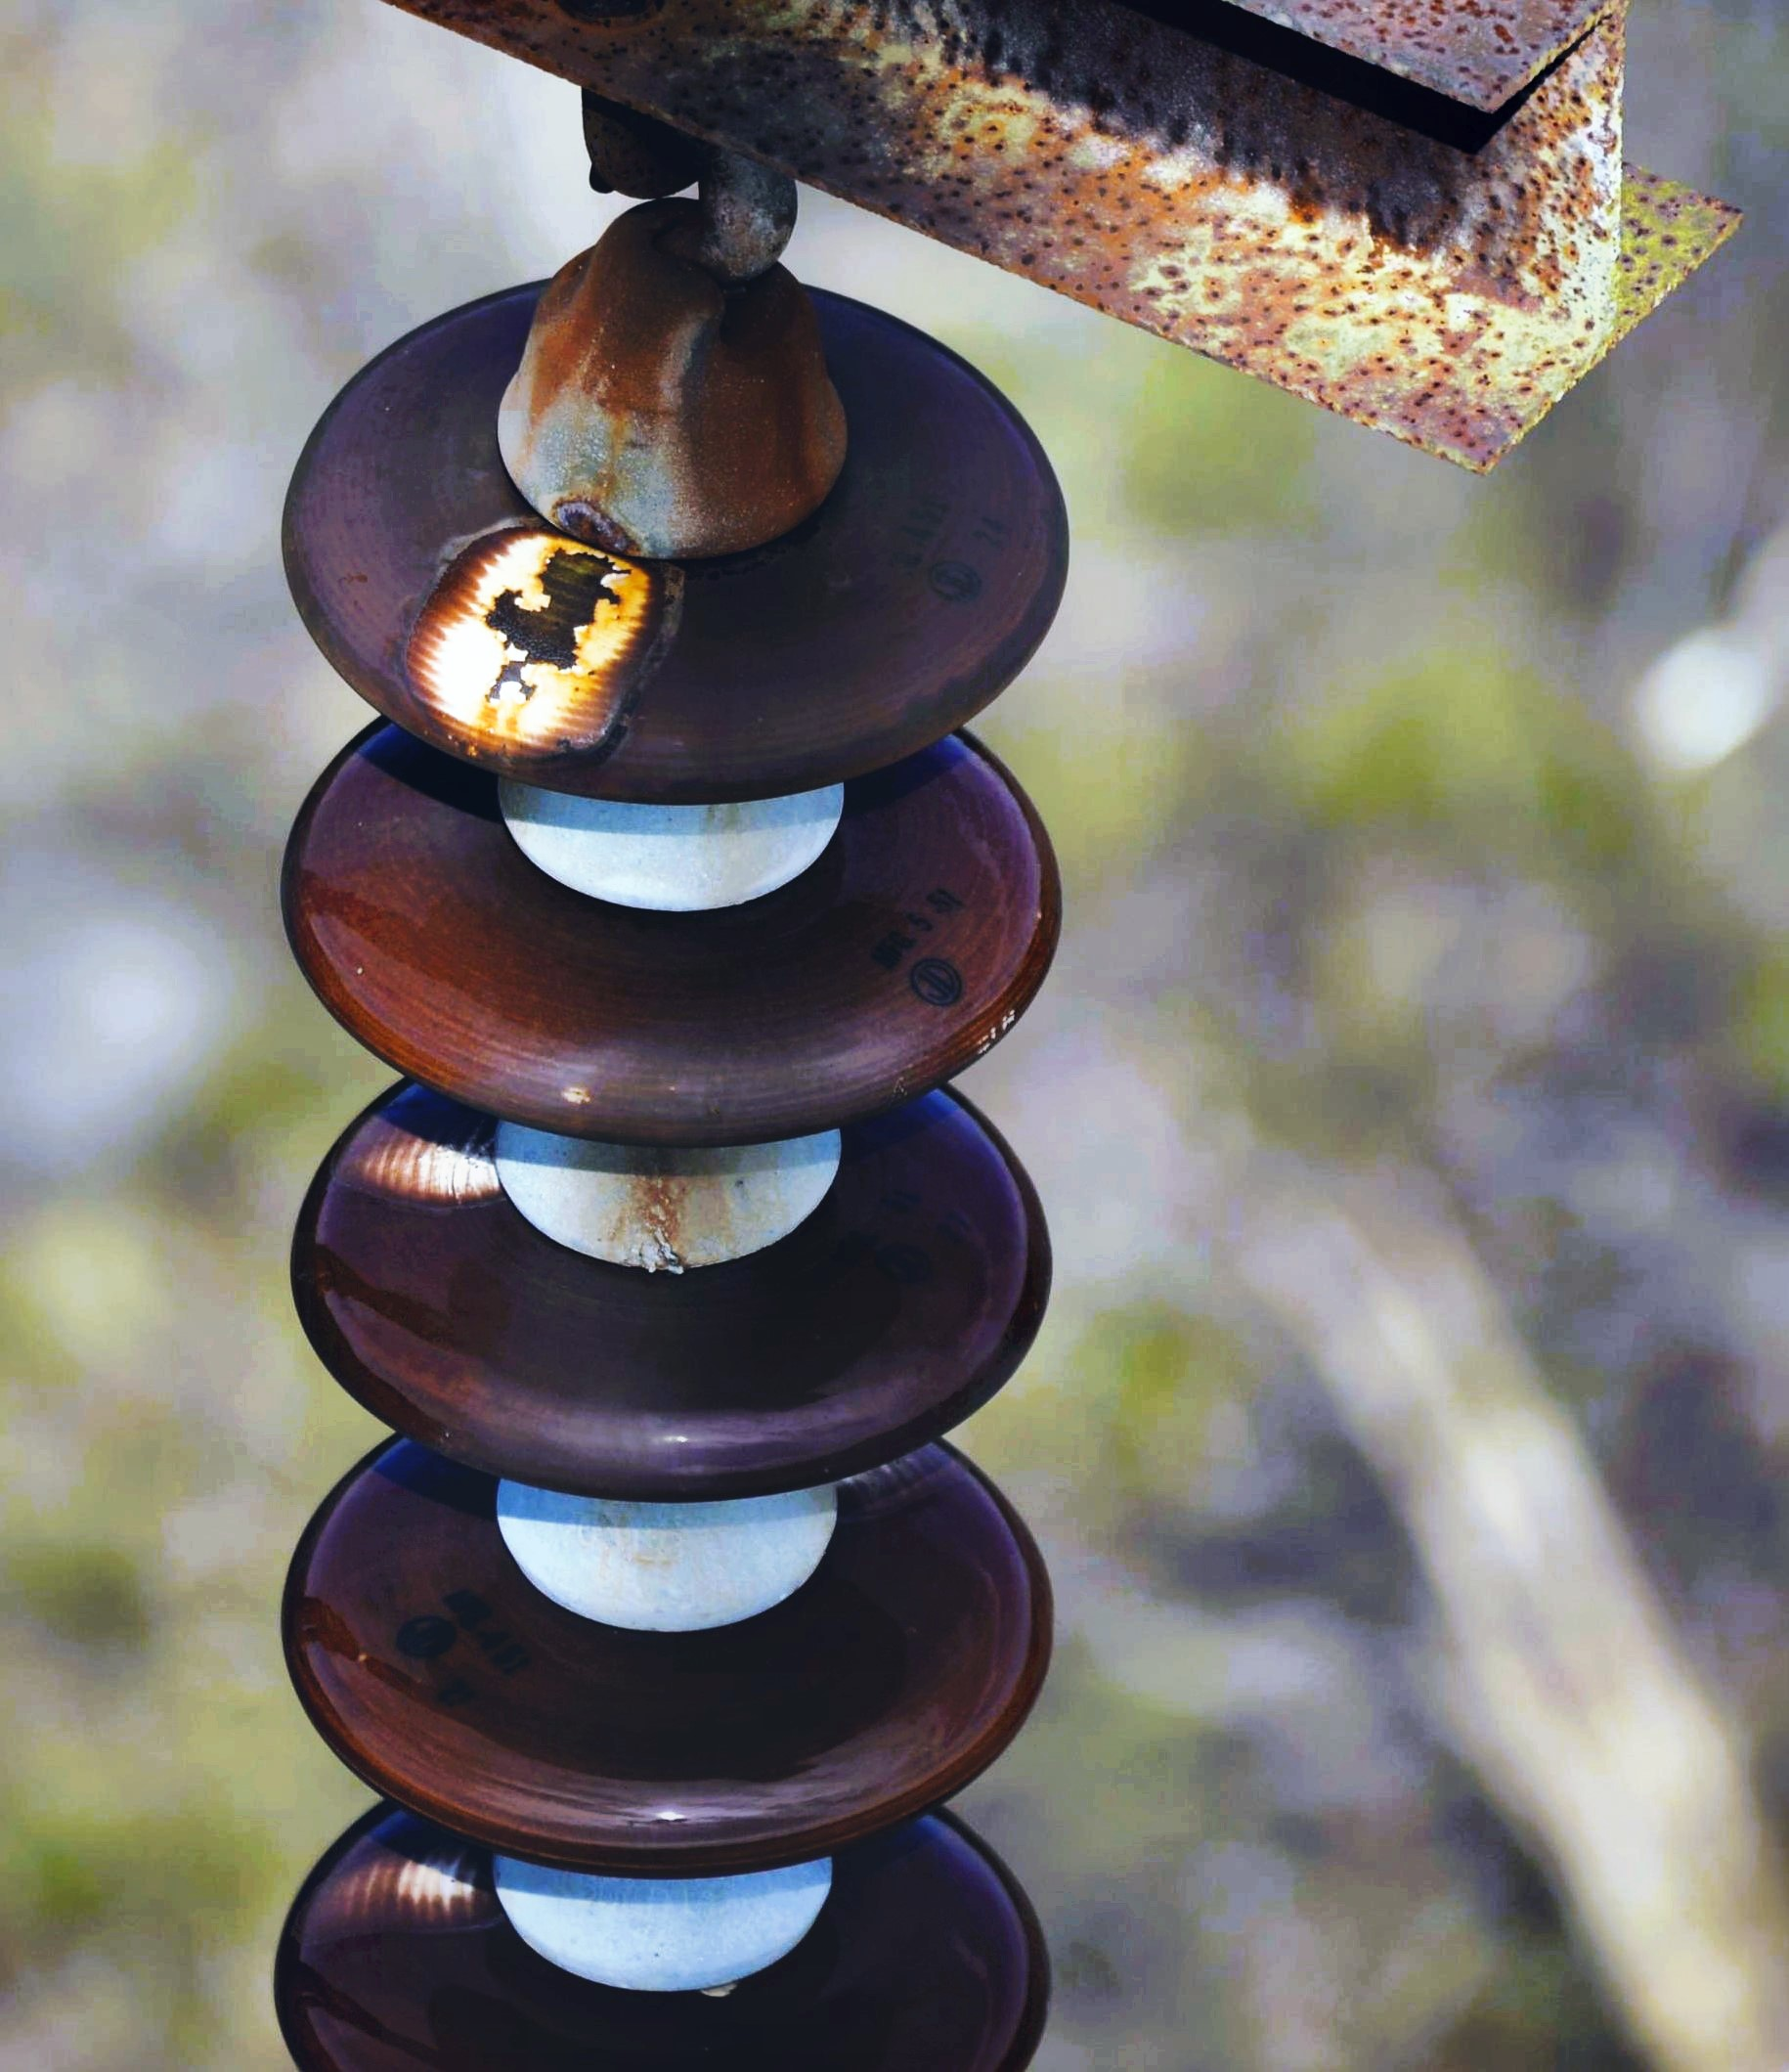Insulator flashover: (252, 234, 1111, 858)
